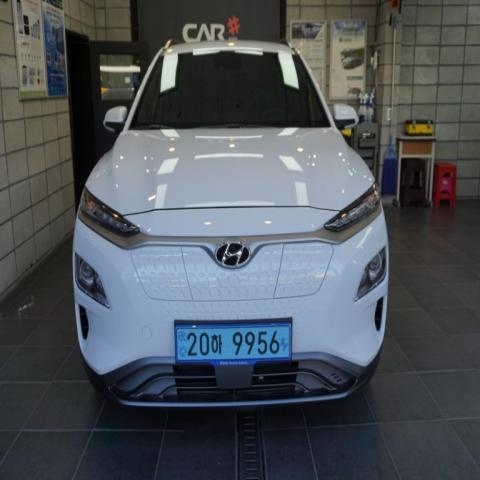LP: (170, 312, 294, 378)
